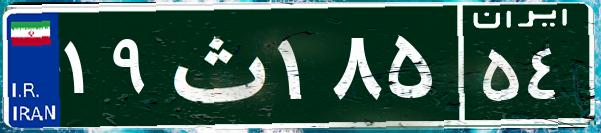1: (273, 28, 330, 110), (57, 26, 110, 107)
4: (525, 38, 570, 115)
5: (385, 28, 445, 110), (475, 38, 525, 113)
8: (330, 28, 385, 110)
9: (110, 28, 158, 105)
ث: (158, 15, 273, 115)
